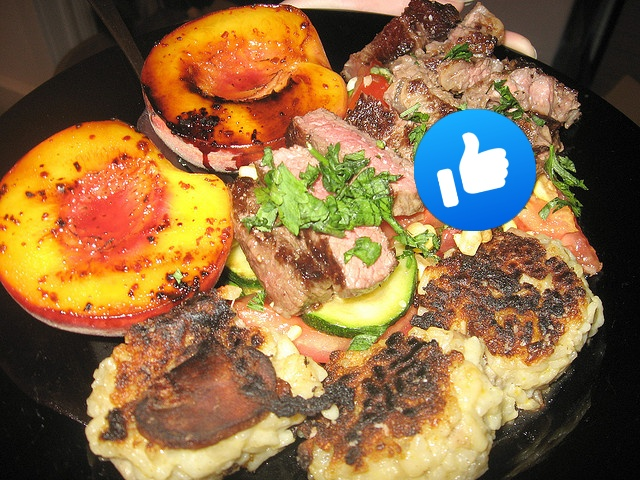like: (414, 109, 536, 231)
